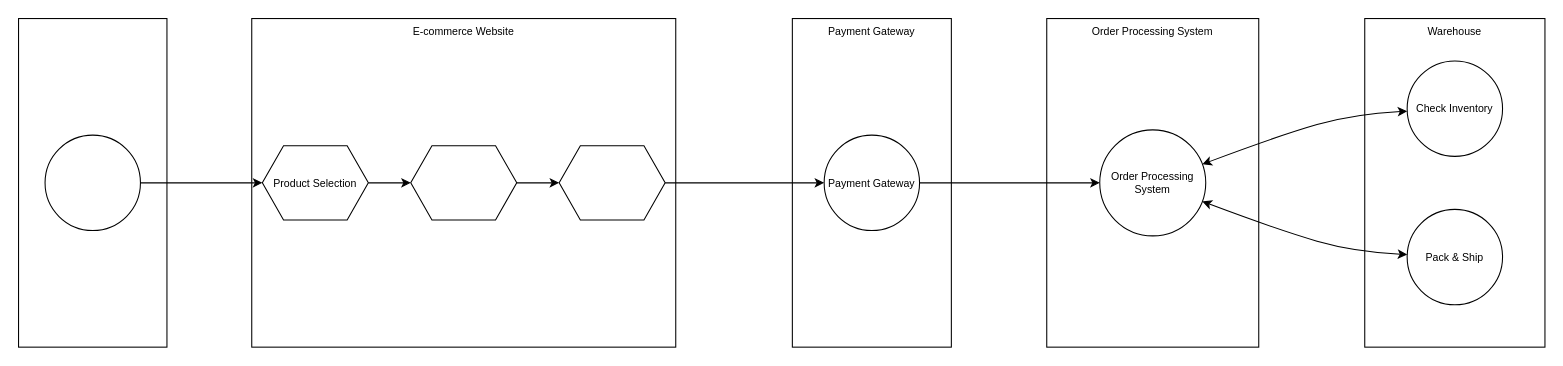
The diagram is 1563 pixels wide and 366 high, and some of its shapes have lost their labels. Each missing label, with the centre of its shape:
Add to Cart: (463,182)
Checkout: (611,182)
Customer: (92,182)
